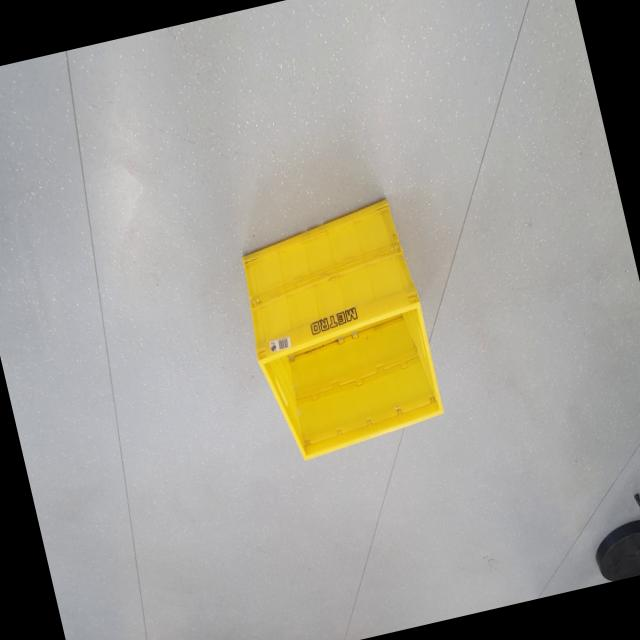box: (222, 181, 463, 482)
